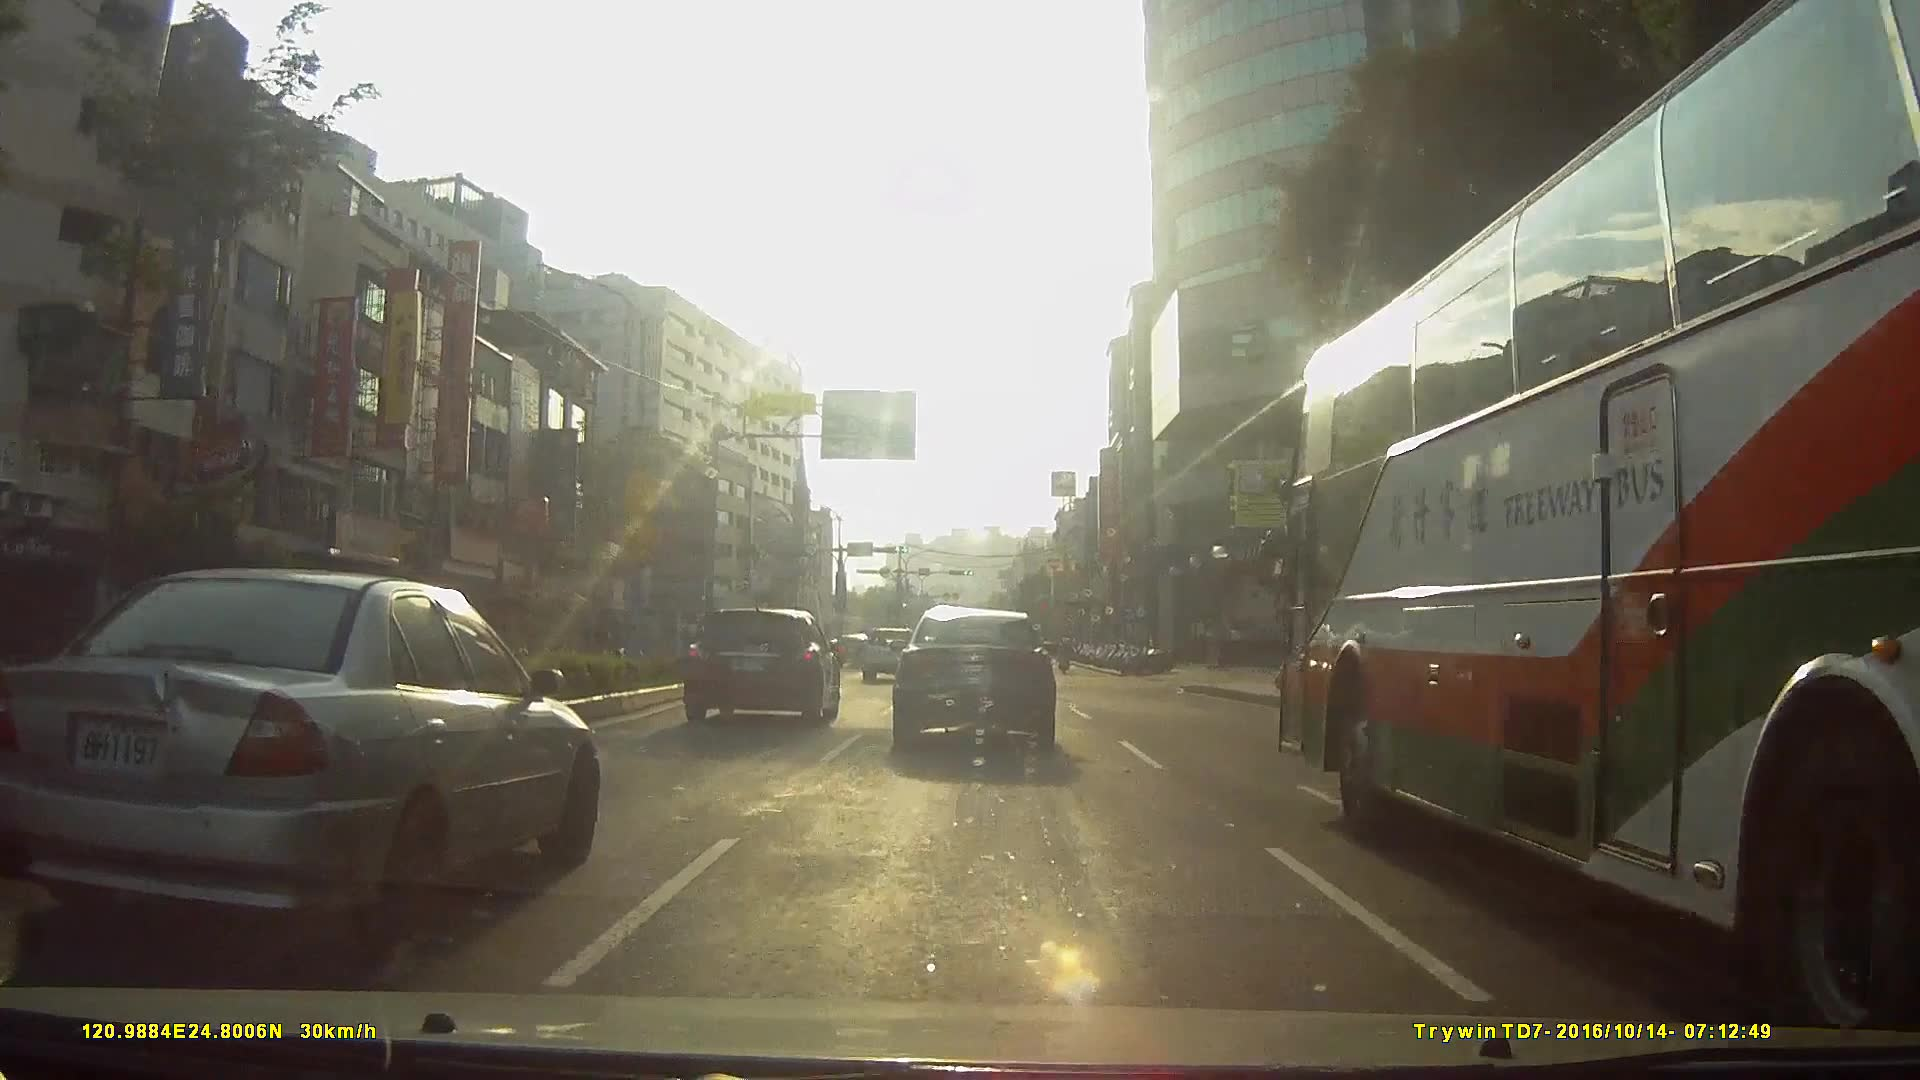vehicle: (1250, 21, 1917, 982), (0, 564, 597, 967), (886, 603, 1054, 752), (679, 607, 839, 724), (858, 626, 918, 682)
